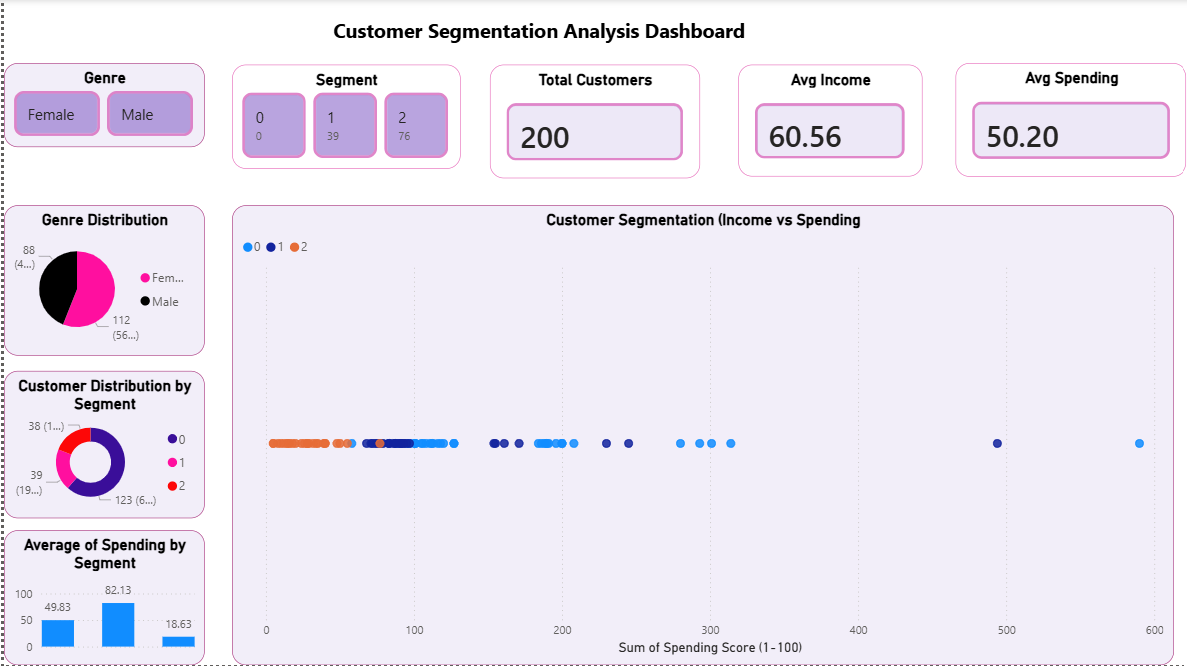

Layout of this report page (visuals, bound fields, positions):
{"tool":"powerbi","page":{"name":"Page 1","canvas":[1280,720],"ordinal":0},"visuals":[{"type":"cardVisual","title":"Total Customers","fields":{"Data":["CountNonNull(customer_segment.CustomerID)"]},"box":[525.6,71.3,227.2,122.7],"z":0},{"type":"cardVisual","title":"Avg Income","fields":{"Data":["Avg(customer_segment.Annual Income (k$))"]},"box":[794.2,71.3,199,121],"z":1000},{"type":"cardVisual","title":"Avg Spending","fields":{"Data":["Avg(customer_segment.Spending Score (1-100))"]},"box":[1028,69.6,250.4,122.7],"z":2000},{"type":"donutChart","title":"Customer Distribution by Segment","fields":{"Category":["customer_segment.Segment"],"Y":["CountNonNull(customer_segment.Segment)"]},"box":[0,401.3,217.2,159.2],"z":3000},{"type":"scatterChart","title":"Customer Segmentation (Income vs Spending","fields":{"Category":["customer_segment.Annual Income (k$)"],"X":["Sum(customer_segment.Spending Score (1-100))"],"Series":["customer_segment.Segment"]},"box":[247.1,222.2,1018.1,497.4],"z":4000},{"type":"columnChart","title":"Average of Spending  by Segment","fields":{"Category":["customer_segment.Segment"],"Y":["Avg(customer_segment.Spending Score (1-100))"]},"box":[0,573.7,217.2,145.9],"z":5000},{"type":"pieChart","title":" Genre Distribution","fields":{"Category":["customer_segment.Genre"],"Y":["CountNonNull(customer_segment.Genre)"]},"box":[0,222.2,217.2,162.5],"z":6000},{"type":"advancedSlicerVisual","fields":{"Values":["customer_segment.Genre"]},"box":[0,69.6,217.2,91.2],"z":7000},{"type":"advancedSlicerVisual","title":" Segment","fields":{"Label":["Sum(customer_segment.Segment)"],"Values":["customer_segment.Segment"]},"box":[247.1,71.3,247.1,112.8],"z":8000},{"type":"textbox","box":[263.5,13.5,630.1,43.9],"z":9000}]}

Visuals, with their boxes in screenshot pixels (x1, y1, x2, y2), scaled from the page's 1280x720 canvas onto the 1187x666 screenshot:
"Total Customers" cardVisual: BBox(487, 66, 698, 179)
"Avg Income" cardVisual: BBox(736, 66, 921, 178)
"Avg Spending" cardVisual: BBox(953, 64, 1186, 178)
"Customer Distribution by Segment" donutChart: BBox(0, 371, 201, 518)
"Customer Segmentation (Income vs Spending" scatterChart: BBox(229, 206, 1173, 665)
"Average of Spending  by Segment" columnChart: BBox(0, 531, 201, 665)
" Genre Distribution" pieChart: BBox(0, 206, 201, 356)
advancedSlicerVisual - customer_segment.Genre: BBox(0, 64, 201, 149)
" Segment" advancedSlicerVisual: BBox(229, 66, 458, 170)
textbox: BBox(244, 12, 829, 53)
